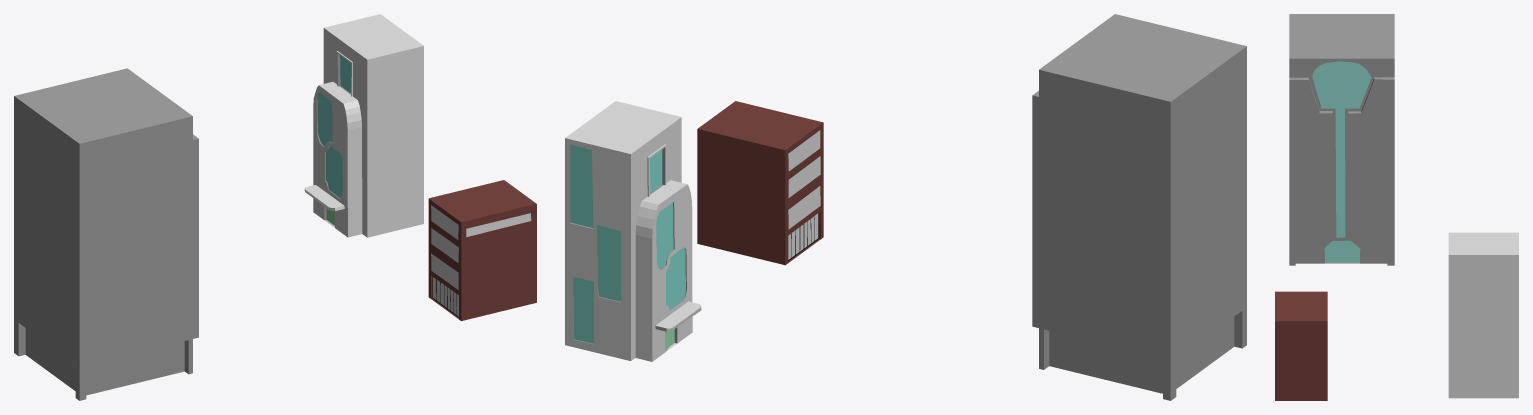
The model's file is casas.glb.
3 views of the same model, side by side, from view 1: azimuth 30°, elevation 25°; view 2: azimuth 150°, elevation 25°; view 3: azimuth 270°, elevation 25° (orthographic). The views are drawn at different scales.
Parts seen in each view (by area): view 1: edificio5, edificio 1, edificio4; view 2: edificio5, edificio 1, edificio4; view 3: edificio5, edificio 1, edificio4.
Boxes of the visible parts, bbox=[...] form: edificio5: bbox=[14, 68, 198, 400]; edificio 1: bbox=[304, 14, 423, 237]; edificio4: bbox=[428, 180, 536, 320]; edificio5: bbox=[1032, 14, 1246, 400]; edificio 1: bbox=[565, 101, 701, 361]; edificio4: bbox=[697, 101, 823, 265]; edificio5: bbox=[1289, 14, 1394, 265]; edificio 1: bbox=[1448, 232, 1518, 398]; edificio4: bbox=[1275, 291, 1327, 400].
Size of the model in its own units: 47.46 by 26.48 by 27.77.
